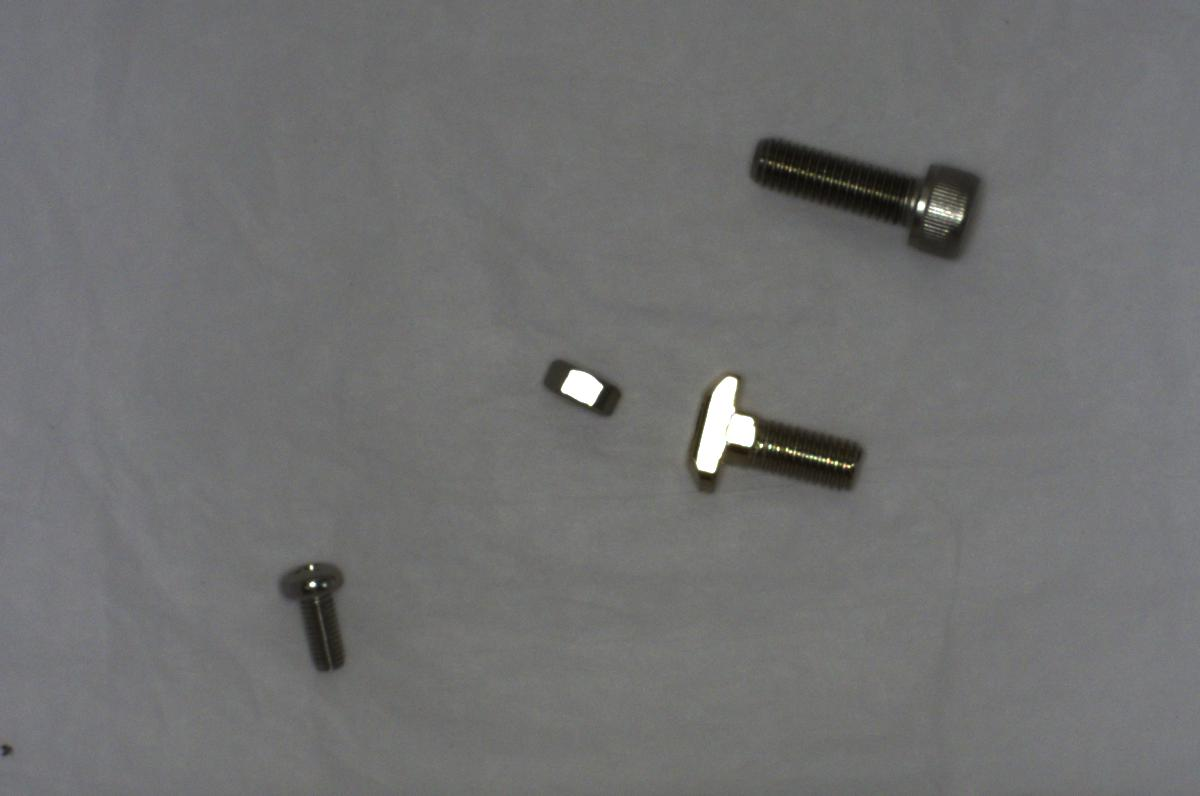Hexagon nut: (528, 348, 626, 420)
Hexagon screw: (739, 133, 986, 259)
Round head screw: (273, 549, 347, 678)
T-shaped screw: (680, 367, 870, 508)
